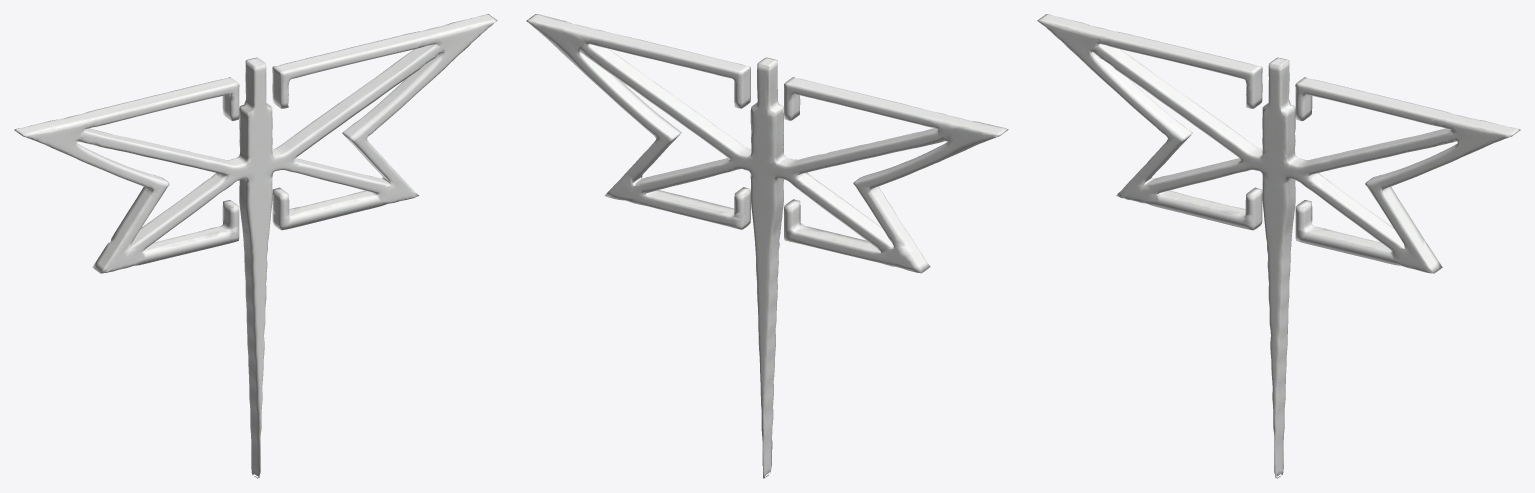
Rendered from Abstract_Butterfly_Em_0125071252_texture.glb.
3 renders of one model, left to right at view 1: azimuth 30°, elevation 25°; view 2: azimuth 150°, elevation 25°; view 3: azimuth 330°, elevation 25°, orthographic.
Bounding box in the file's own units: 1.99 × 1.66 × 0.0696.
1 material, 1 textured.
